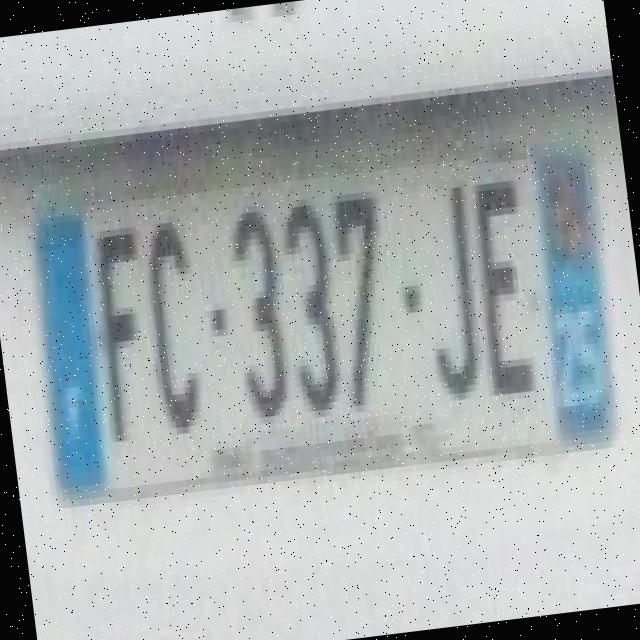EU: (28, 157, 622, 501)
France: (33, 221, 105, 501)
